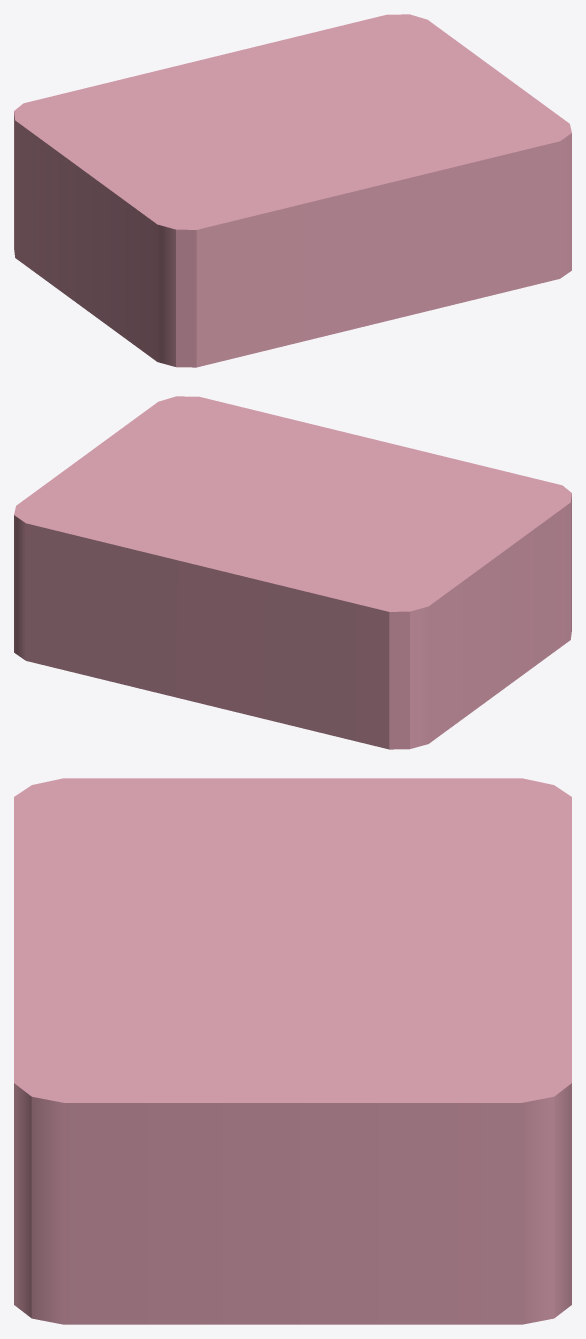
Rendered from PlayingCardDeck.fbx.
3 views of the same model, one above another, from view 1: azimuth 30°, elevation 25°; view 2: azimuth 150°, elevation 25°; view 3: azimuth 270°, elevation 25° (orthographic). The views are drawn at different scales.
Parts seen in each view (by area): view 1: PlayingCardDeck; view 2: PlayingCardDeck; view 3: PlayingCardDeck.
Part boxes in pixels (box(x1,y1,x2,y2)): PlayingCardDeck: box(14, 14, 571, 367); PlayingCardDeck: box(14, 396, 571, 749); PlayingCardDeck: box(14, 778, 571, 1324).
Size of the model in its own units: 6.53 by 2.08 by 4.74.
